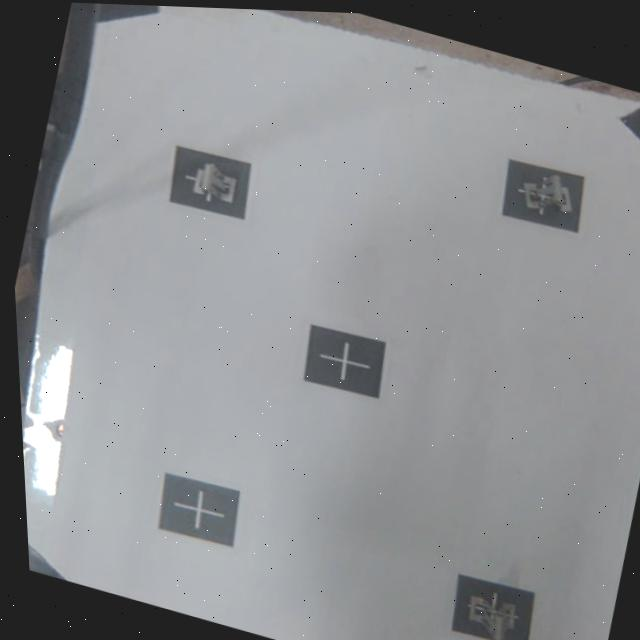pick2: (160, 141, 261, 223)
pick4: (441, 572, 539, 640)
pick5: (494, 153, 592, 236)
